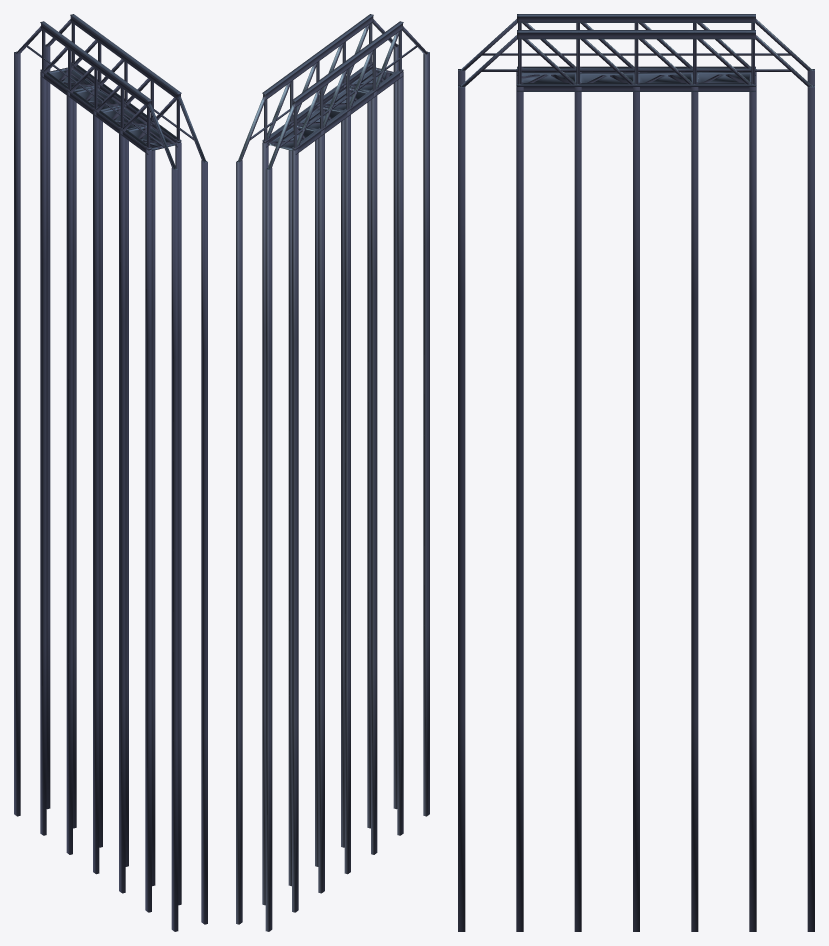
The model's file is mesh_girders_A_10.fbx.
3 views of the same model, side by side, from view 1: azimuth 30°, elevation 25°; view 2: azimuth 150°, elevation 25°; view 3: azimuth 270°, elevation 25° (orthographic). The views are drawn at different scales.
Parts seen in each view (by area): view 1: subnet1; view 2: subnet1; view 3: subnet1.
Part boxes in pixels (x1,y1,x2,y2): subnet1: (14,14,207,931); subnet1: (236,14,429,931); subnet1: (458,14,814,931).
Size of the model in its own units: 1.46 by 34.08 by 12.25.
